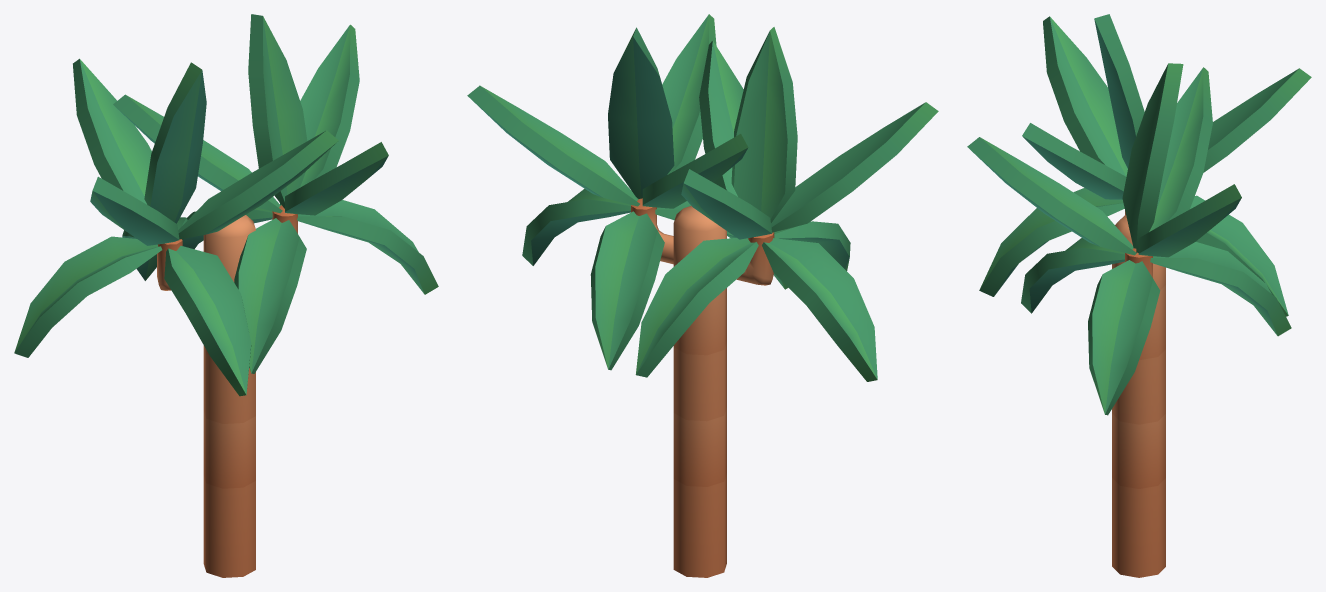
File: Yucca Branch-4GhzEiQXhg.glb
The picture shows the model from 3 angles, left to right: view 1: azimuth 30°, elevation 25°; view 2: azimuth 150°, elevation 25°; view 3: azimuth 270°, elevation 25°; orthographic projection. The views are drawn at different scales.
Visible parts, largest first — view 1: yucca_branch_small_B; view 2: yucca_branch_small_B; view 3: yucca_branch_small_B.
Part boxes in pixels (box(x1,y1,x2,y2)): yucca_branch_small_B: box(14, 14, 438, 577); yucca_branch_small_B: box(467, 14, 938, 577); yucca_branch_small_B: box(967, 14, 1311, 577).
Size of the model in its own units: 0.8249 by 1.08 by 0.6393.
1 material, 1 textured.
